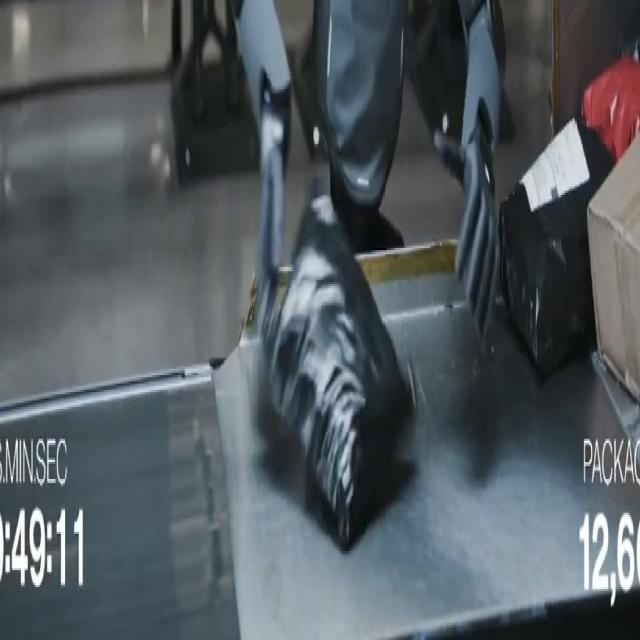package: (258, 198, 413, 550), (499, 119, 614, 377), (589, 138, 639, 400), (582, 58, 639, 161), (622, 39, 639, 61)
